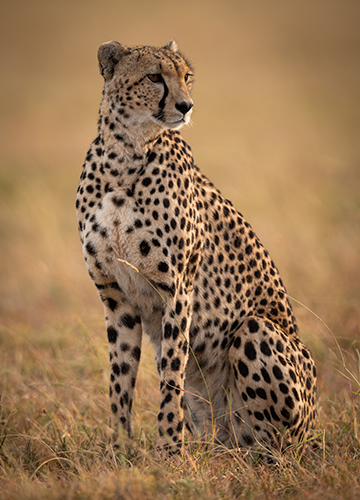cheetah: (78, 39, 201, 149)
